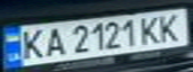1: (118, 16, 142, 47), (87, 20, 109, 52)
2: (66, 21, 90, 55), (103, 18, 124, 50)
A: (39, 25, 69, 58)
K: (15, 26, 48, 61), (154, 10, 187, 43), (136, 14, 166, 45)
